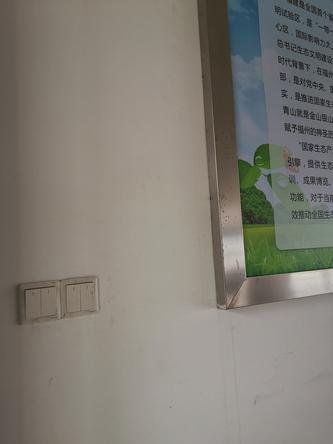switch: (38, 283, 58, 320), (23, 283, 41, 323), (63, 279, 82, 315), (80, 279, 98, 313)
